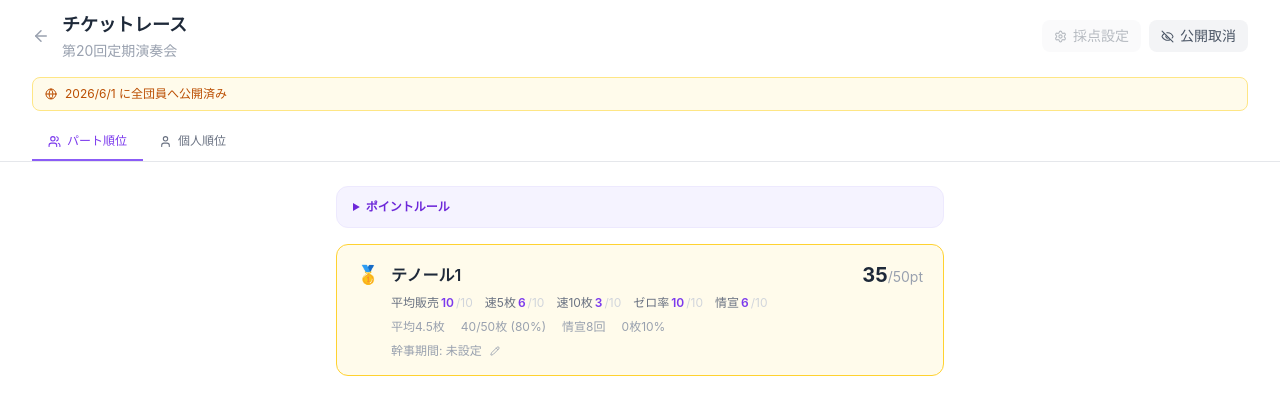
Test: RacePage（公開操作） › 「公開取消」クリックでunpublishRaceが呼ばれ未公開状態になる
Click the button "公開取消" at x=1198, y=36, box [1149,20,1248,52]
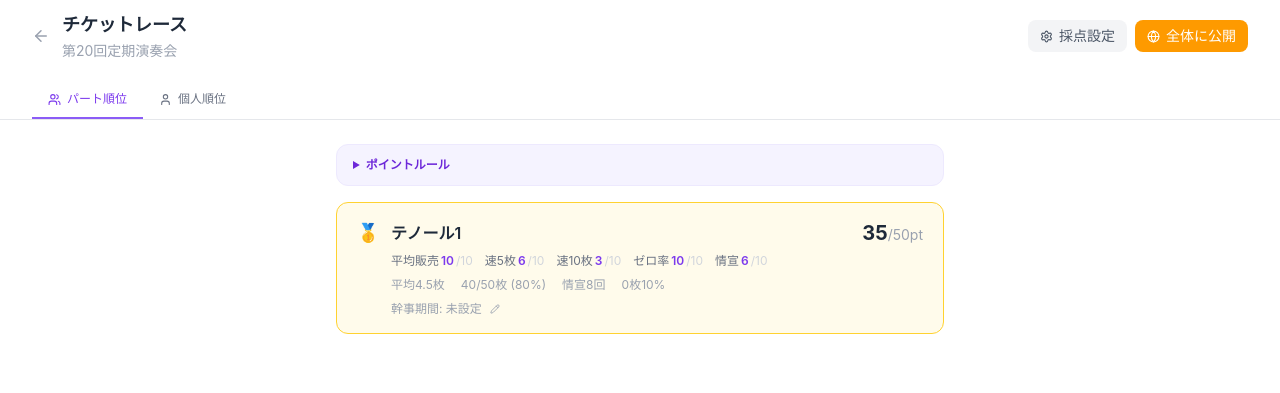
expect the button "全体に公開" is shown: met, box [1135,20,1248,52]
